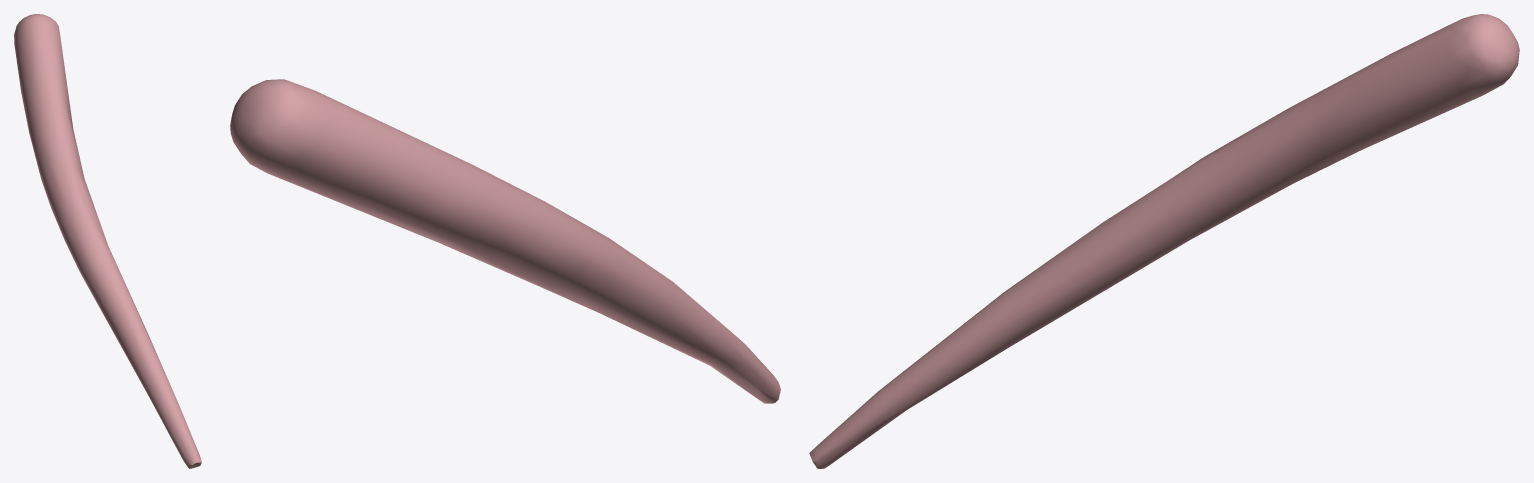
File: fma68214_fj6534.glb
The picture shows the model from 3 angles, left to right: view 1: azimuth 30°, elevation 25°; view 2: azimuth 150°, elevation 25°; view 3: azimuth 270°, elevation 25°; orthographic projection. The views are drawn at different scales.
Parts seen in each view (by area): view 1: FMA68214_FJ6534; view 2: FMA68214_FJ6534; view 3: FMA68214_FJ6534.
Boxes of the visible parts, x1=… form: FMA68214_FJ6534: x1=14, y1=14, x2=201, y2=468; FMA68214_FJ6534: x1=230, y1=79, x2=780, y2=403; FMA68214_FJ6534: x1=809, y1=14, x2=1519, y2=468.
Bounding box in the file's own units: 0.0132 × 0.0443 × 0.0585.
